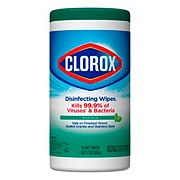Wipes: (45, 4, 133, 174)
